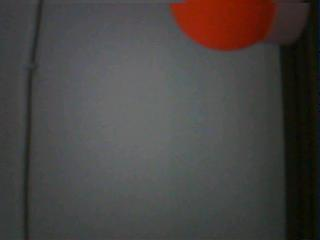oball: (169, 4, 269, 51)
